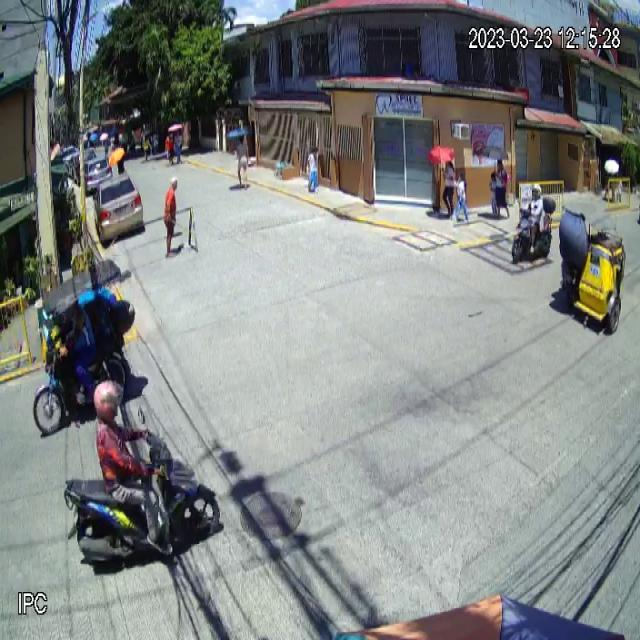Car: (92, 171, 144, 241)
Motorcycle: (63, 407, 221, 573), (511, 196, 557, 261)
Tricycle: (31, 259, 136, 435), (558, 194, 626, 335)
